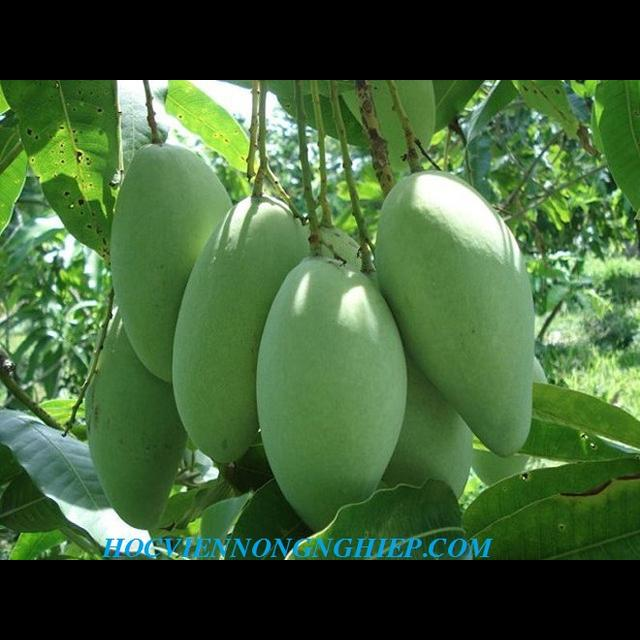xoai: (374, 171, 536, 459), (256, 258, 407, 540), (171, 197, 312, 464), (107, 144, 221, 382), (84, 309, 186, 530)
